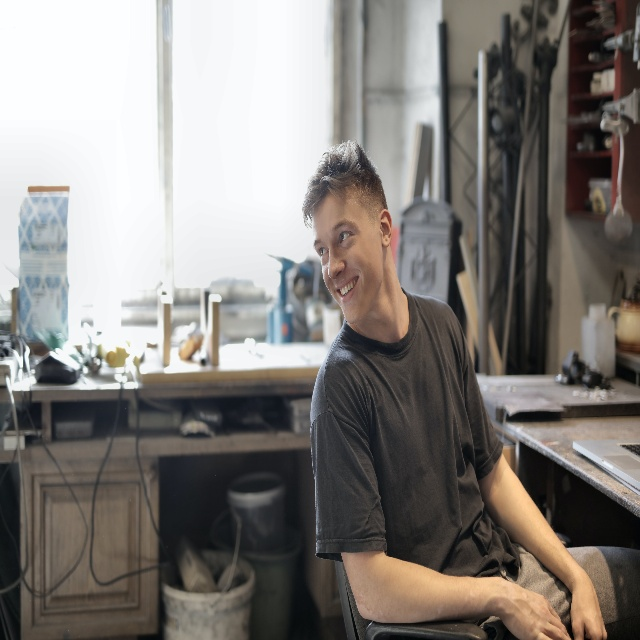Sin_guantes: (499, 581, 571, 640), (569, 570, 608, 640)
